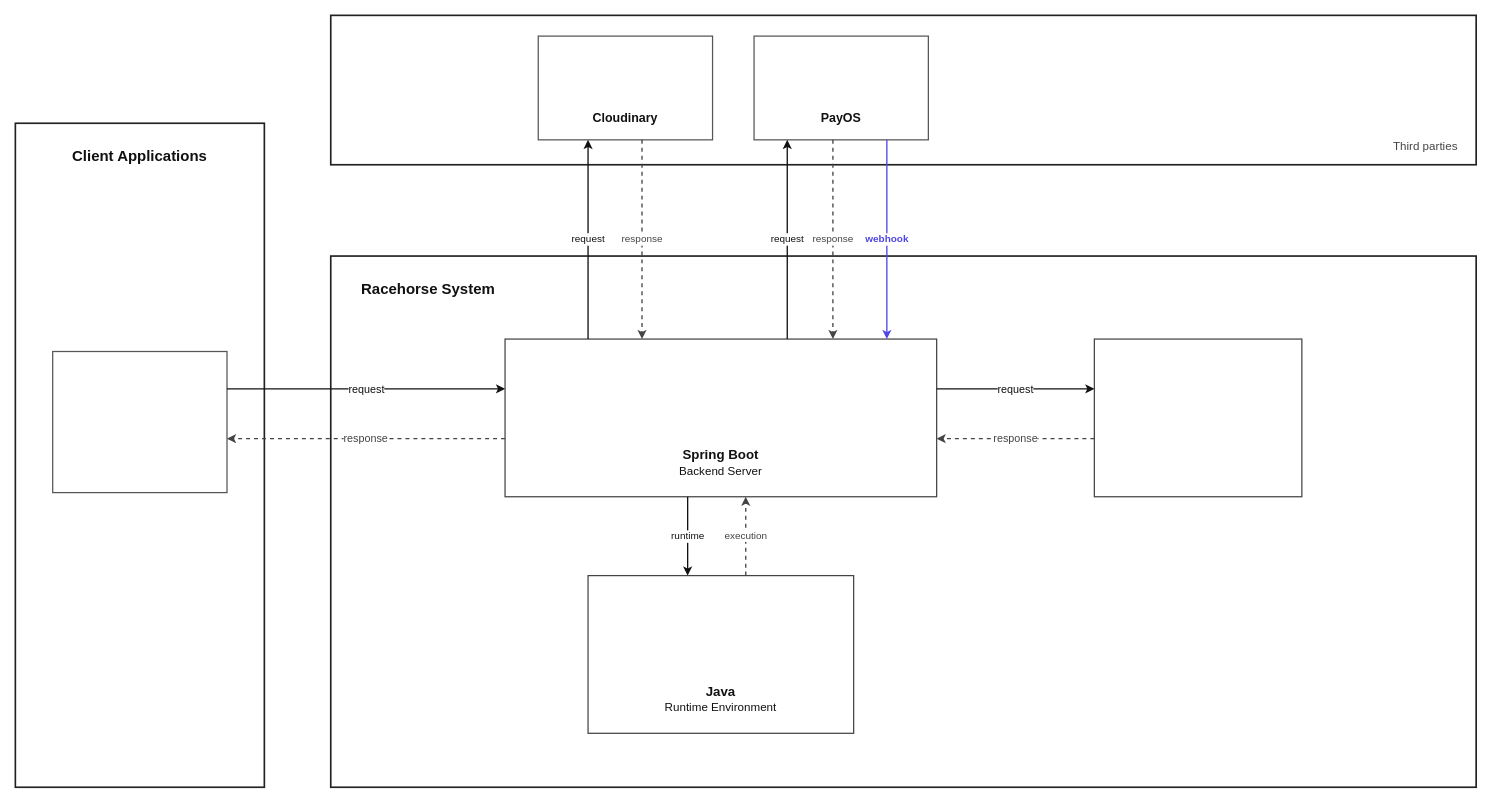
The diagram is 1491 pixels wide and 802 high, and some of its shapes have lost their labels. Here are the shapes that lost their labels. From the top down, the centre of each, then its label:
the point at 139,422: React Web App
the point at 1197,417: SQL Server Database
